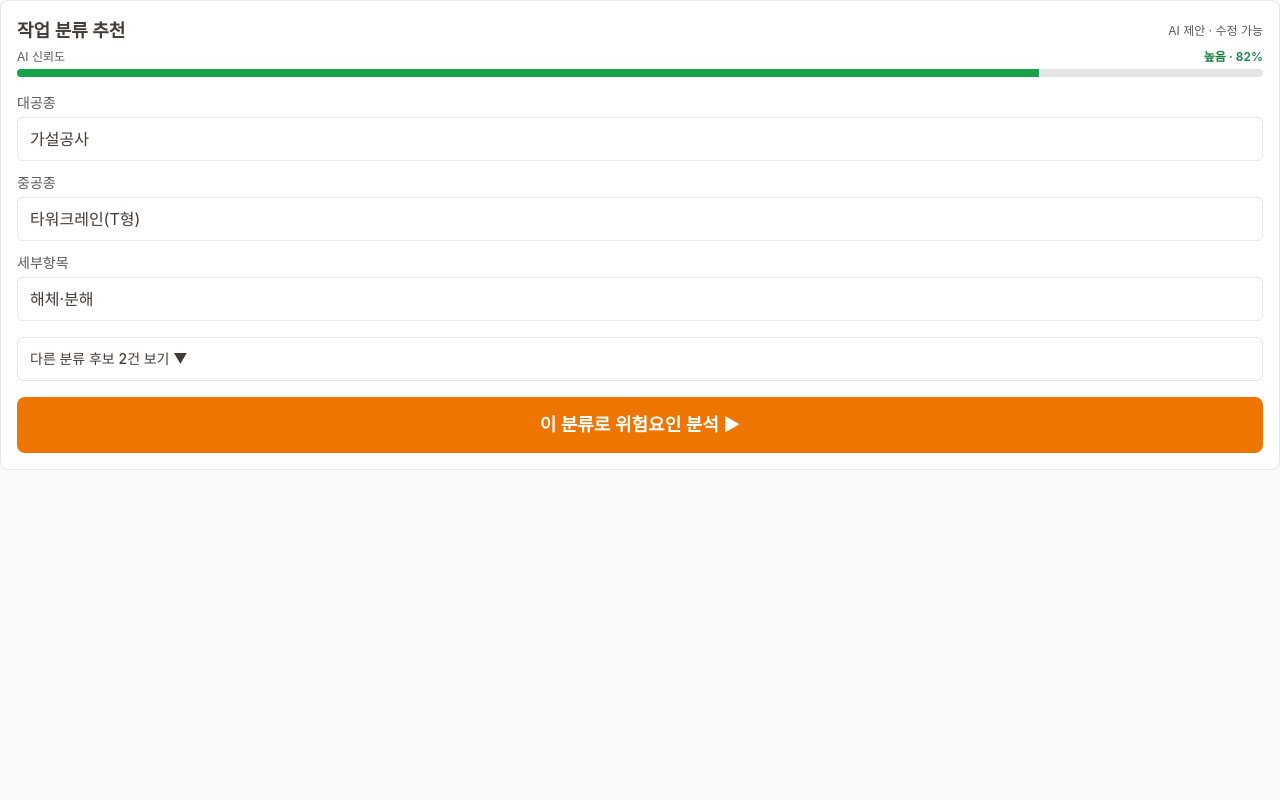
Test case: ClassificationCard › 대안 후보 드롭다운을 펼치고 선택하면 분류가 바뀐다
This screenshot has width=1280, height=800.
Click the button with test id "alt-toggle". click: (74, 358)
box: top-left (17, 337), bottom-right (1263, 381)
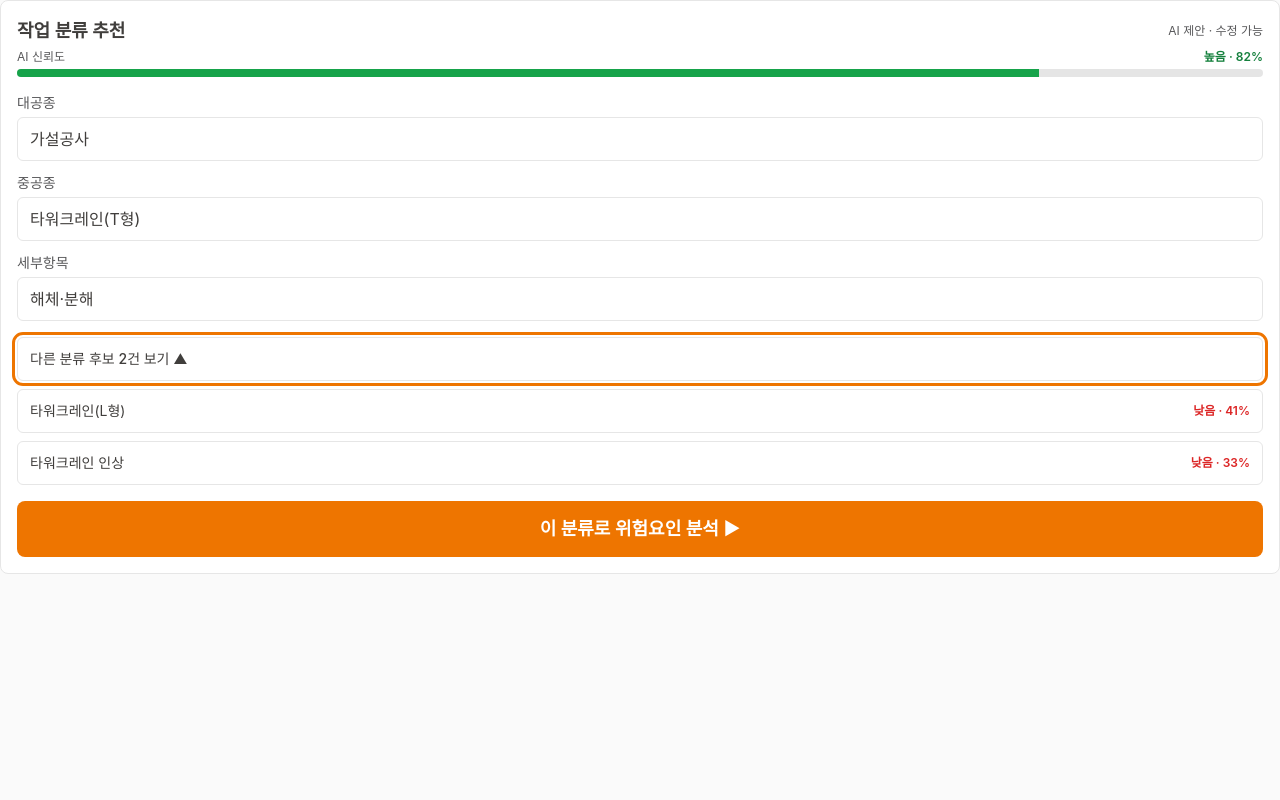
expect the list with test id "alt-list" is shown: met, box top-left (17, 389), bottom-right (1263, 485)
Click the button with test id "alt-option". click: (78, 410)
box: top-left (17, 389), bottom-right (1263, 433)
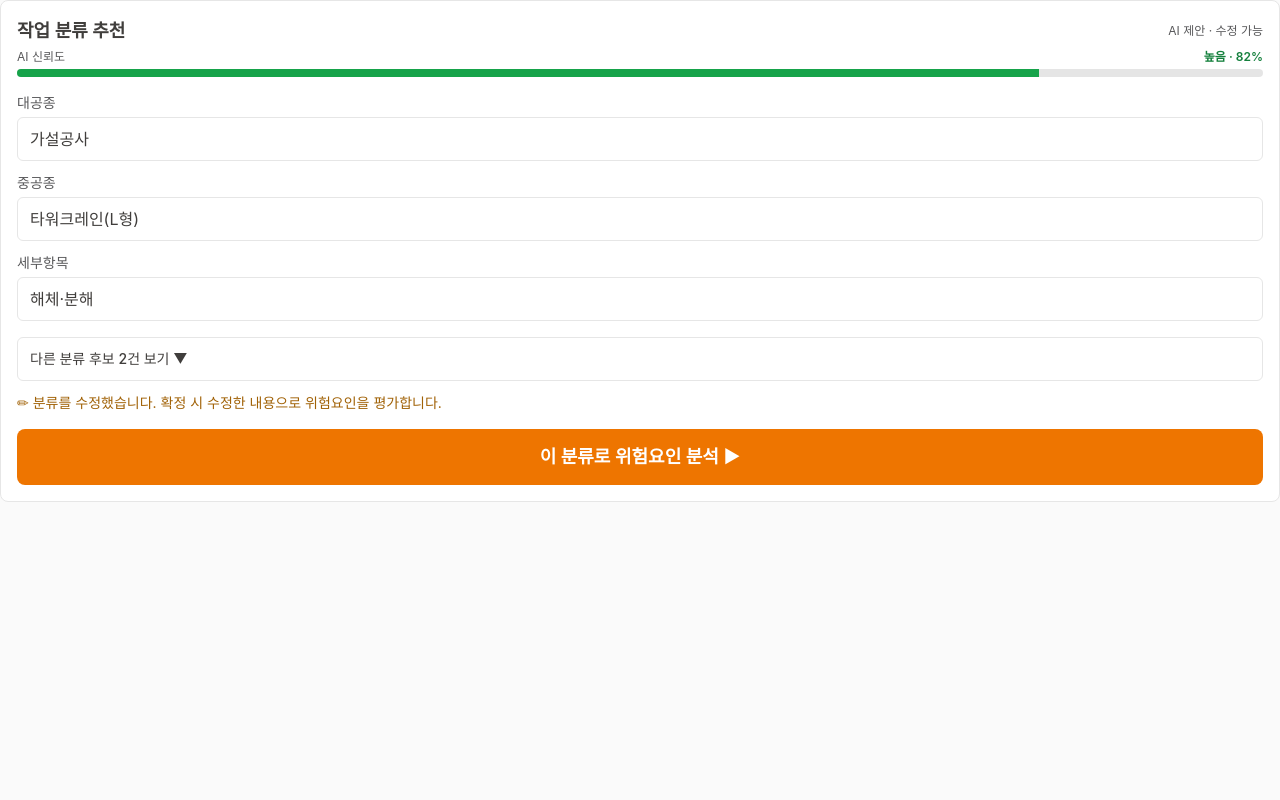
expect the field showing "타워크레인(L형)" is shown: met, box top-left (17, 197), bottom-right (1263, 241)
